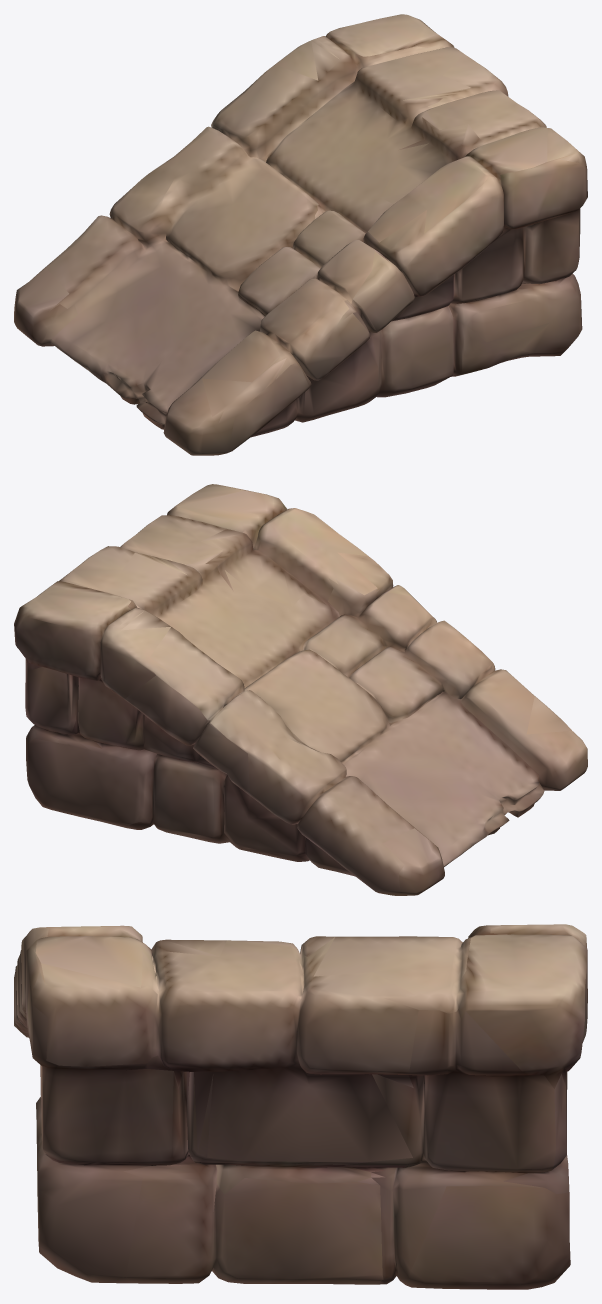
The model's file is c06_rampa_pedra.glb.
The picture shows the model from 3 angles, top to bottom: view 1: azimuth 30°, elevation 25°; view 2: azimuth 150°, elevation 25°; view 3: azimuth 270°, elevation 25°; orthographic projection. The views are drawn at different scales.
Visible parts, largest first — view 1: c06_rampa_pedra; view 2: c06_rampa_pedra; view 3: c06_rampa_pedra.
Part boxes in pixels (x1,y1,x2,y2): c06_rampa_pedra: [14, 14, 587, 455]; c06_rampa_pedra: [14, 484, 587, 895]; c06_rampa_pedra: [14, 924, 587, 1289].
Bounding box in the file's own units: 1.98 × 0.9917 × 1.64.
Materials: 1 (1 with a texture image).
